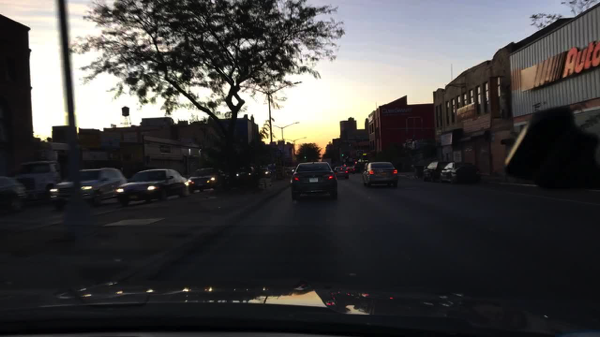car: (52, 168, 126, 209), (116, 169, 189, 207), (12, 162, 62, 204), (290, 161, 338, 201), (0, 176, 29, 215), (186, 167, 227, 194), (438, 162, 482, 185), (361, 162, 399, 187), (421, 160, 453, 183), (235, 165, 257, 182), (334, 166, 350, 180), (275, 163, 286, 177), (259, 167, 271, 178), (283, 167, 295, 177), (268, 163, 277, 176), (352, 165, 362, 173), (347, 167, 356, 173), (342, 164, 352, 168), (331, 165, 340, 169)
traffic light: (341, 151, 345, 159), (304, 154, 307, 161)
traffic sign: (348, 157, 353, 163), (362, 153, 367, 156)
